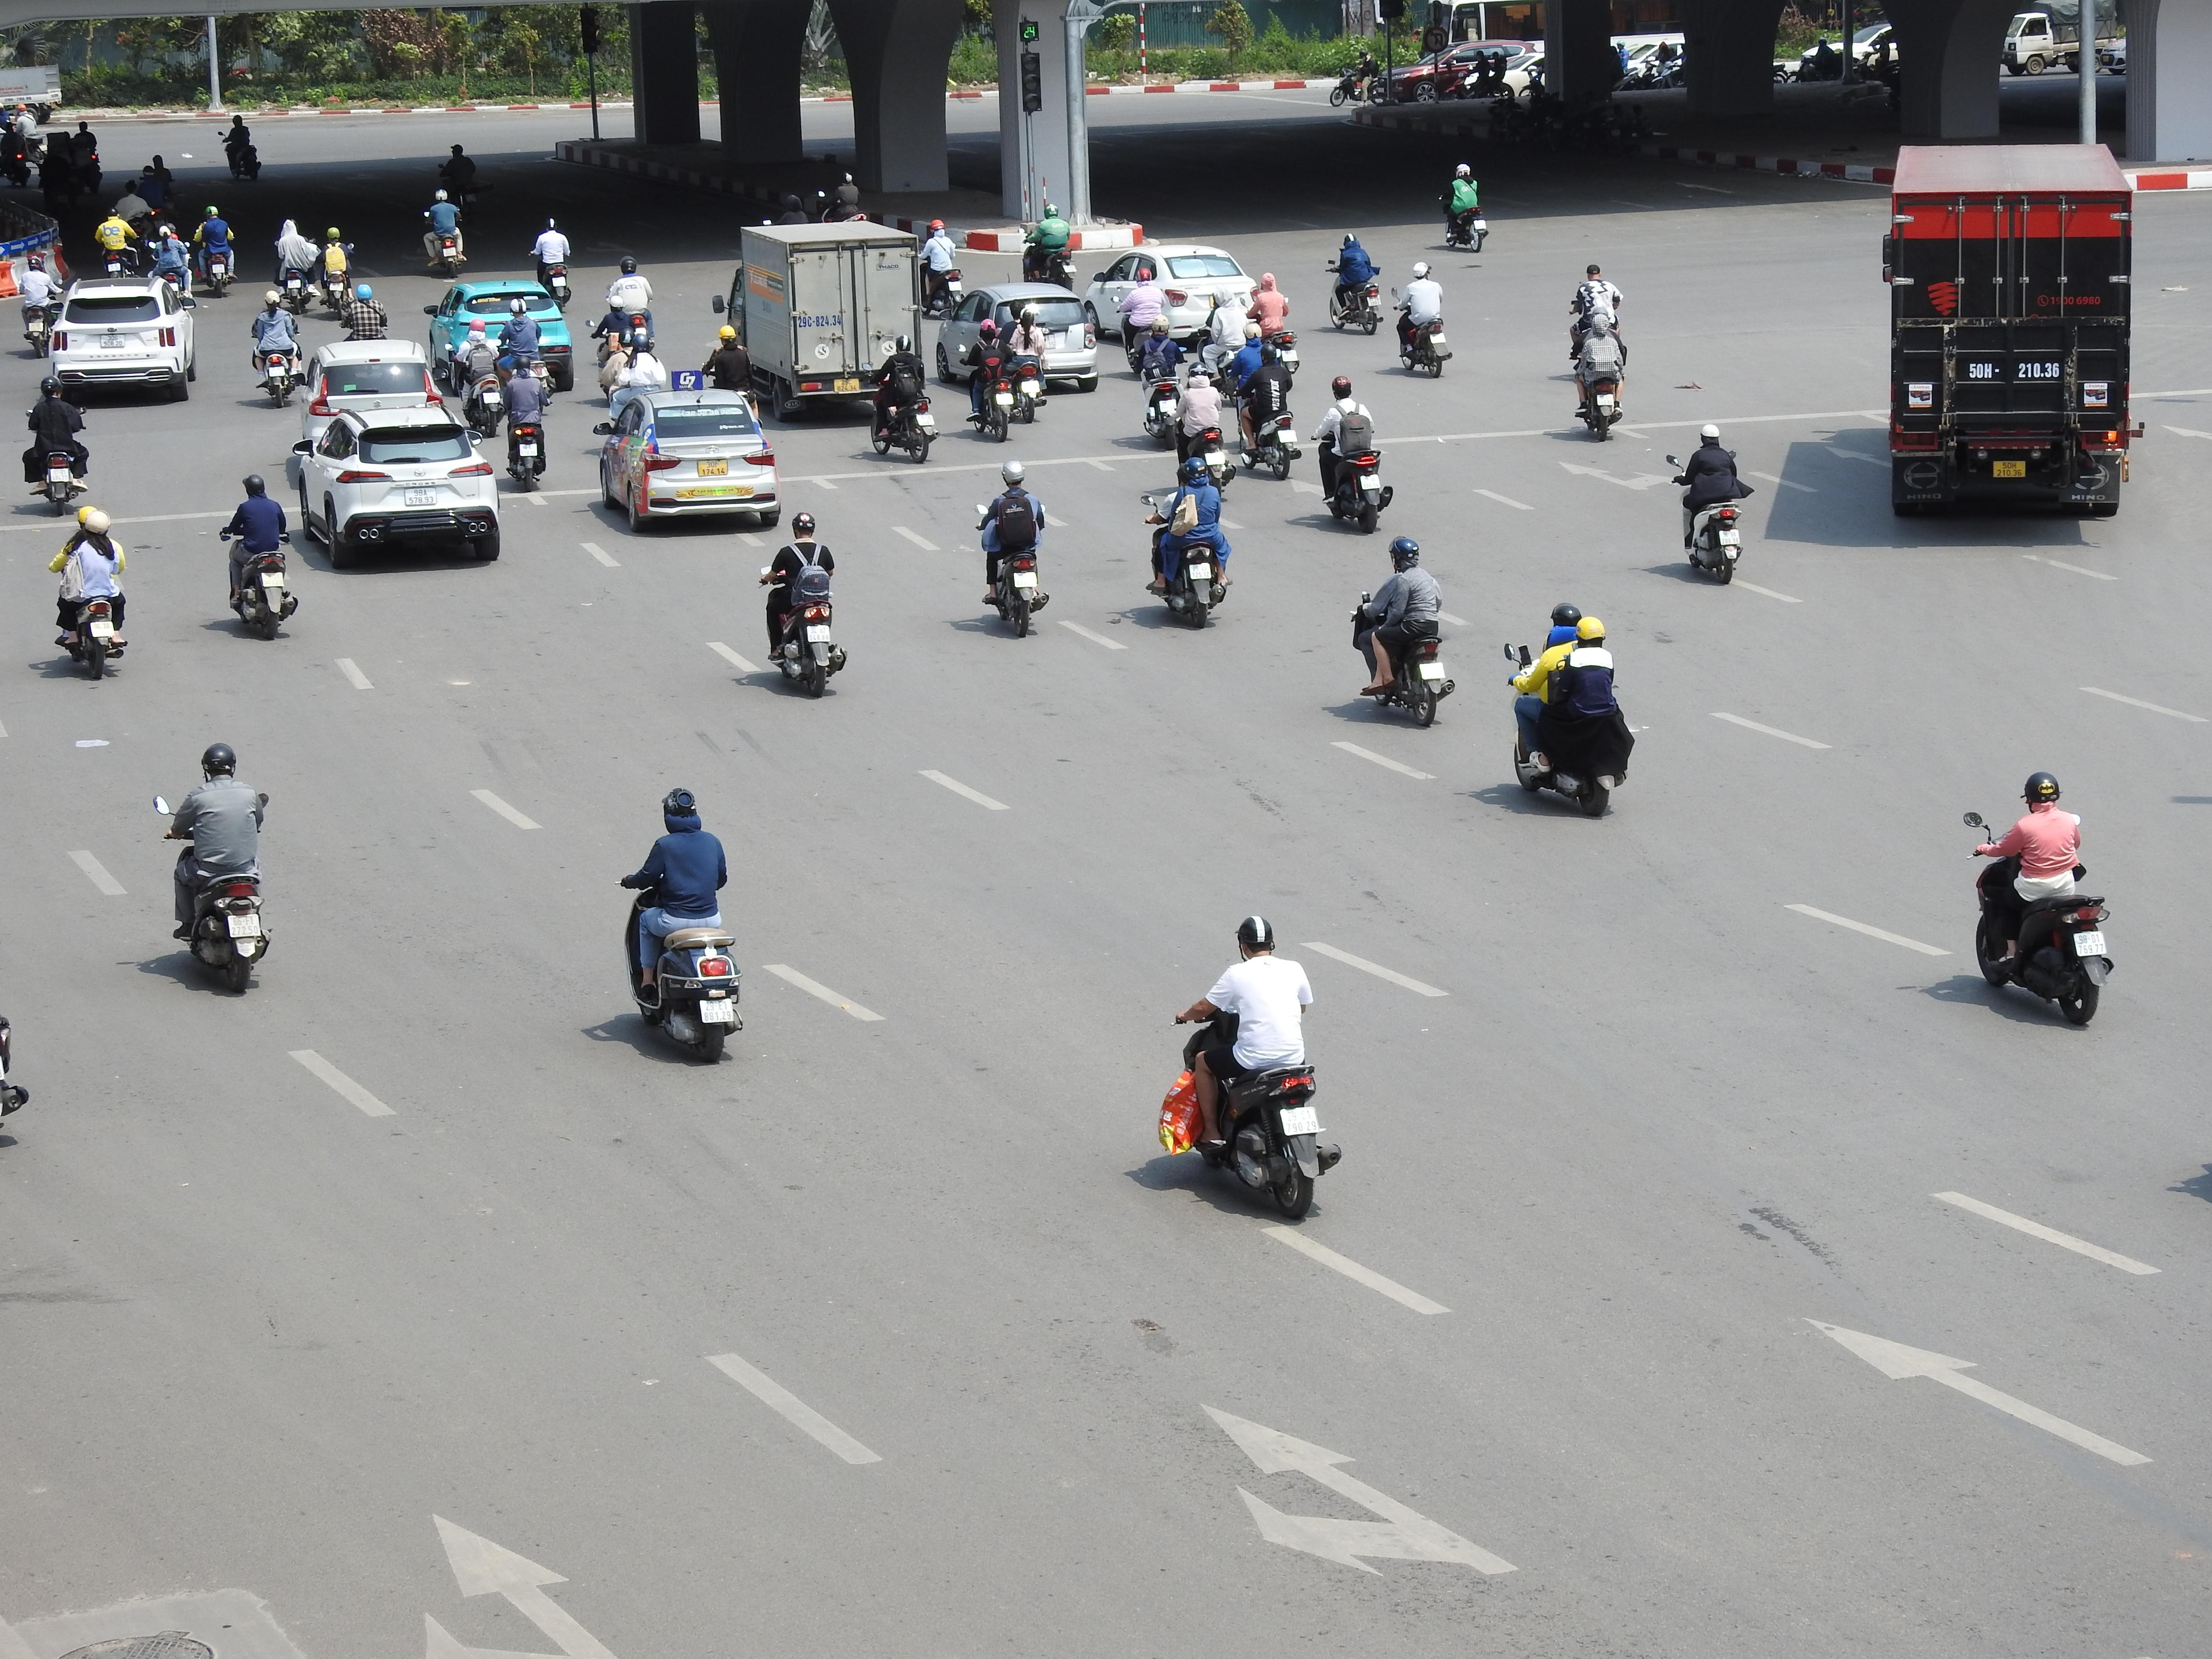BSV: (1280, 1107, 1320, 1138), (2073, 931, 2107, 957), (698, 999, 735, 1023), (226, 913, 260, 939), (1993, 460, 2026, 479), (404, 488, 437, 505), (1420, 662, 1447, 681), (698, 460, 728, 477), (1188, 563, 1212, 580), (1014, 572, 1038, 589), (806, 626, 831, 643), (91, 622, 115, 638), (834, 378, 860, 392), (1360, 474, 1381, 490), (1719, 530, 1740, 545), (101, 335, 125, 347), (49, 469, 70, 483), (1597, 394, 1613, 406)
car: (287, 401, 502, 570), (592, 385, 782, 535), (44, 274, 199, 404), (932, 281, 1103, 394), (1087, 242, 1256, 347), (300, 336, 442, 427)
motorbike: (1158, 913, 1339, 1223), (1966, 769, 2113, 1028), (620, 786, 744, 1065), (160, 742, 272, 997), (1507, 603, 1635, 821), (1352, 535, 1454, 728), (761, 511, 846, 699), (1144, 453, 1231, 629), (51, 507, 129, 681), (219, 472, 298, 640), (1672, 423, 1750, 586), (977, 462, 1049, 638), (1317, 375, 1392, 535), (1233, 329, 1299, 479), (23, 375, 91, 516), (867, 338, 937, 464), (1172, 362, 1235, 490), (1571, 314, 1627, 441), (1393, 261, 1451, 378), (502, 357, 552, 490), (1139, 317, 1186, 448), (963, 324, 1015, 441), (1564, 263, 1625, 362), (1325, 230, 1383, 335), (251, 291, 303, 404), (16, 246, 66, 357), (270, 214, 326, 314), (458, 326, 507, 439), (1116, 263, 1165, 376), (1019, 195, 1078, 288), (1245, 270, 1298, 373), (604, 254, 657, 350), (1005, 310, 1049, 423), (916, 218, 963, 315), (190, 202, 239, 295), (420, 185, 467, 279), (589, 295, 632, 396), (1440, 162, 1489, 251), (531, 214, 573, 308), (94, 195, 138, 277), (150, 220, 195, 298), (219, 110, 261, 185)
truck: (1879, 141, 2142, 521), (723, 218, 925, 420)
